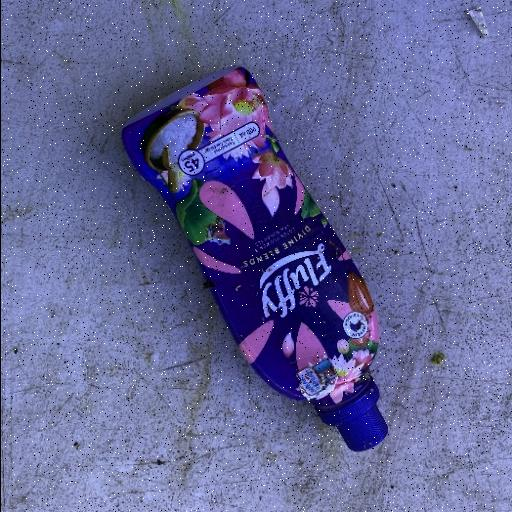Plastic: (119, 64, 391, 454)
